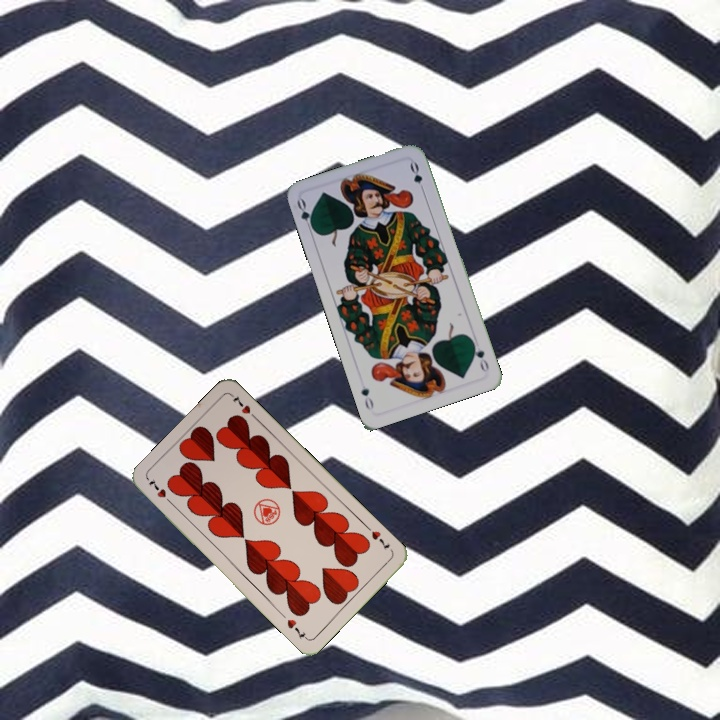GO: (293, 195, 317, 235), (468, 337, 492, 374)
H7: (144, 475, 176, 508), (367, 527, 393, 553)
